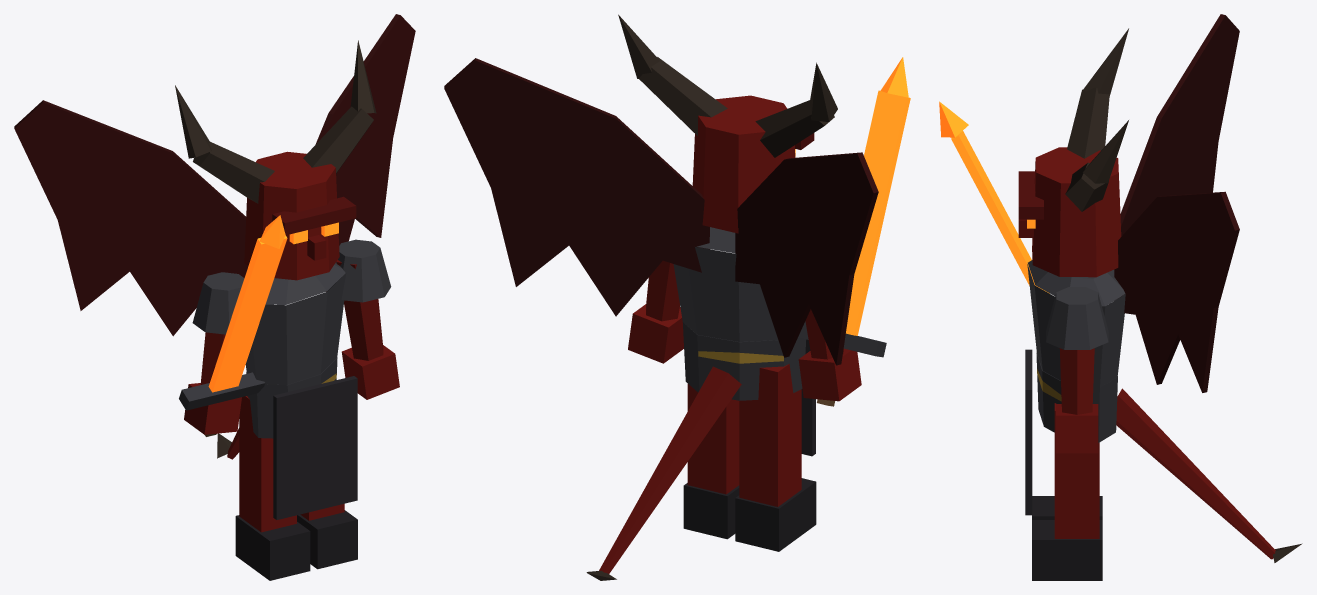
File: demon_lord.glb
3 views of the same model, side by side, from view 1: azimuth 30°, elevation 25°; view 2: azimuth 150°, elevation 25°; view 3: azimuth 270°, elevation 25° (orthographic). The views are drawn at different scales.
Parts seen in each view (by area): view 1: demon_lord_wing_r, demon_lord_torso, demon_lord_head, demon_lord_wing_l, demon_lord_leg_r, demon_lord_arm_l, demon_lord_sword, demon_lord_arm_r, demon_lord_leg_l; view 2: demon_lord_wing_l, demon_lord_wing_r, demon_lord_head, demon_lord_torso, demon_lord_leg_r, demon_lord_sword, demon_lord_leg_l, demon_lord_tail, demon_lord_arm_l, demon_lord_arm_r; view 3: demon_lord_wing_l, demon_lord_head, demon_lord_wing_r, demon_lord_torso, demon_lord_leg_l, demon_lord_arm_l, demon_lord_tail, demon_lord_sword, demon_lord_leg_r.
Boxes of the visible parts, x1,y1,x2,y2 form: demon_lord_wing_r: (14,100,248,336); demon_lord_torso: (245,262,357,519); demon_lord_head: (175,40,376,280); demon_lord_wing_l: (315,14,415,291); demon_lord_leg_r: (235,396,310,580); demon_lord_arm_l: (327,239,399,399); demon_lord_sword: (179,215,287,436); demon_lord_arm_r: (184,272,244,434); demon_lord_leg_l: (297,503,357,569); demon_lord_wing_l: (444,58,709,316); demon_lord_wing_r: (735,152,878,365); demon_lord_head: (618,14,837,233); demon_lord_torso: (673,227,815,456); demon_lord_leg_r: (735,364,816,551); demon_lord_sword: (798,57,910,406); demon_lord_leg_l: (683,383,739,539); demon_lord_tail: (586,366,741,580); demon_lord_arm_l: (628,260,683,363); demon_lord_arm_r: (798,309,861,401); demon_lord_wing_l: (1114,191,1239,392); demon_lord_head: (1018,28,1128,277); demon_lord_wing_r: (1120,14,1239,236); demon_lord_torso: (1025,260,1125,515); demon_lord_leg_l: (1032,403,1102,580); demon_lord_arm_l: (1046,287,1108,453); demon_lord_tail: (1116,388,1302,562); demon_lord_sword: (939,101,1049,293); demon_lord_leg_r: (1032,496,1102,519).
Bounding box in the file's own units: 2.61 × 2.94 × 2.
